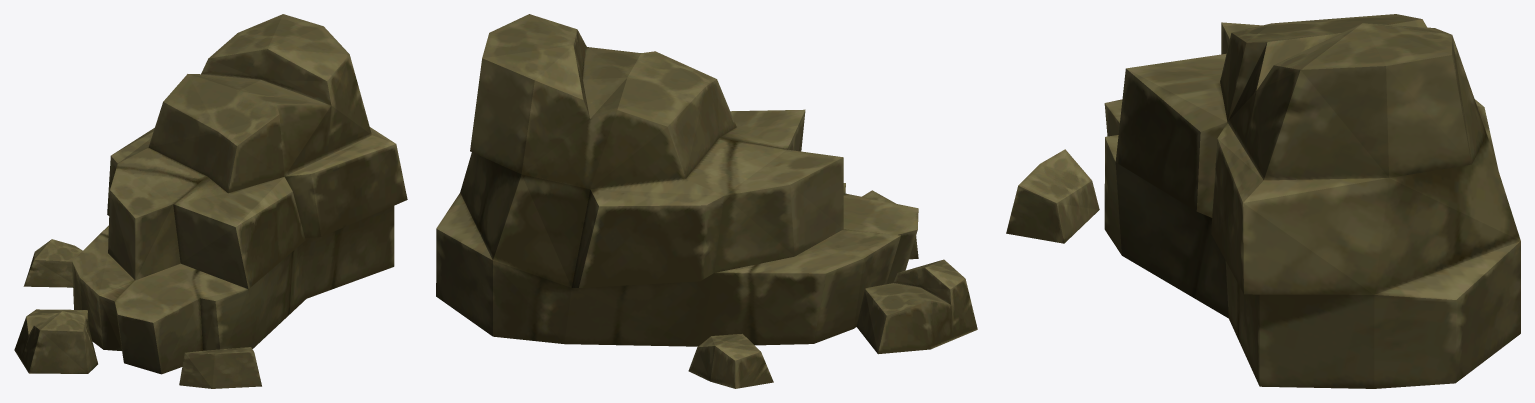
Rendered from rockwall_end_02.fbx.
3 views of the same model, side by side, from view 1: azimuth 30°, elevation 25°; view 2: azimuth 150°, elevation 25°; view 3: azimuth 270°, elevation 25° (orthographic). The views are drawn at different scales.
Parts seen in each view (by area): view 1: obj0.136; view 2: obj0.136; view 3: obj0.136.
Boxes of the visible parts, x1,y1,x2,y2 form: obj0.136: (14, 14, 407, 388); obj0.136: (436, 14, 977, 388); obj0.136: (1006, 14, 1520, 388).
Bounding box in the file's own units: 3.69 × 1.93 × 2.97.
